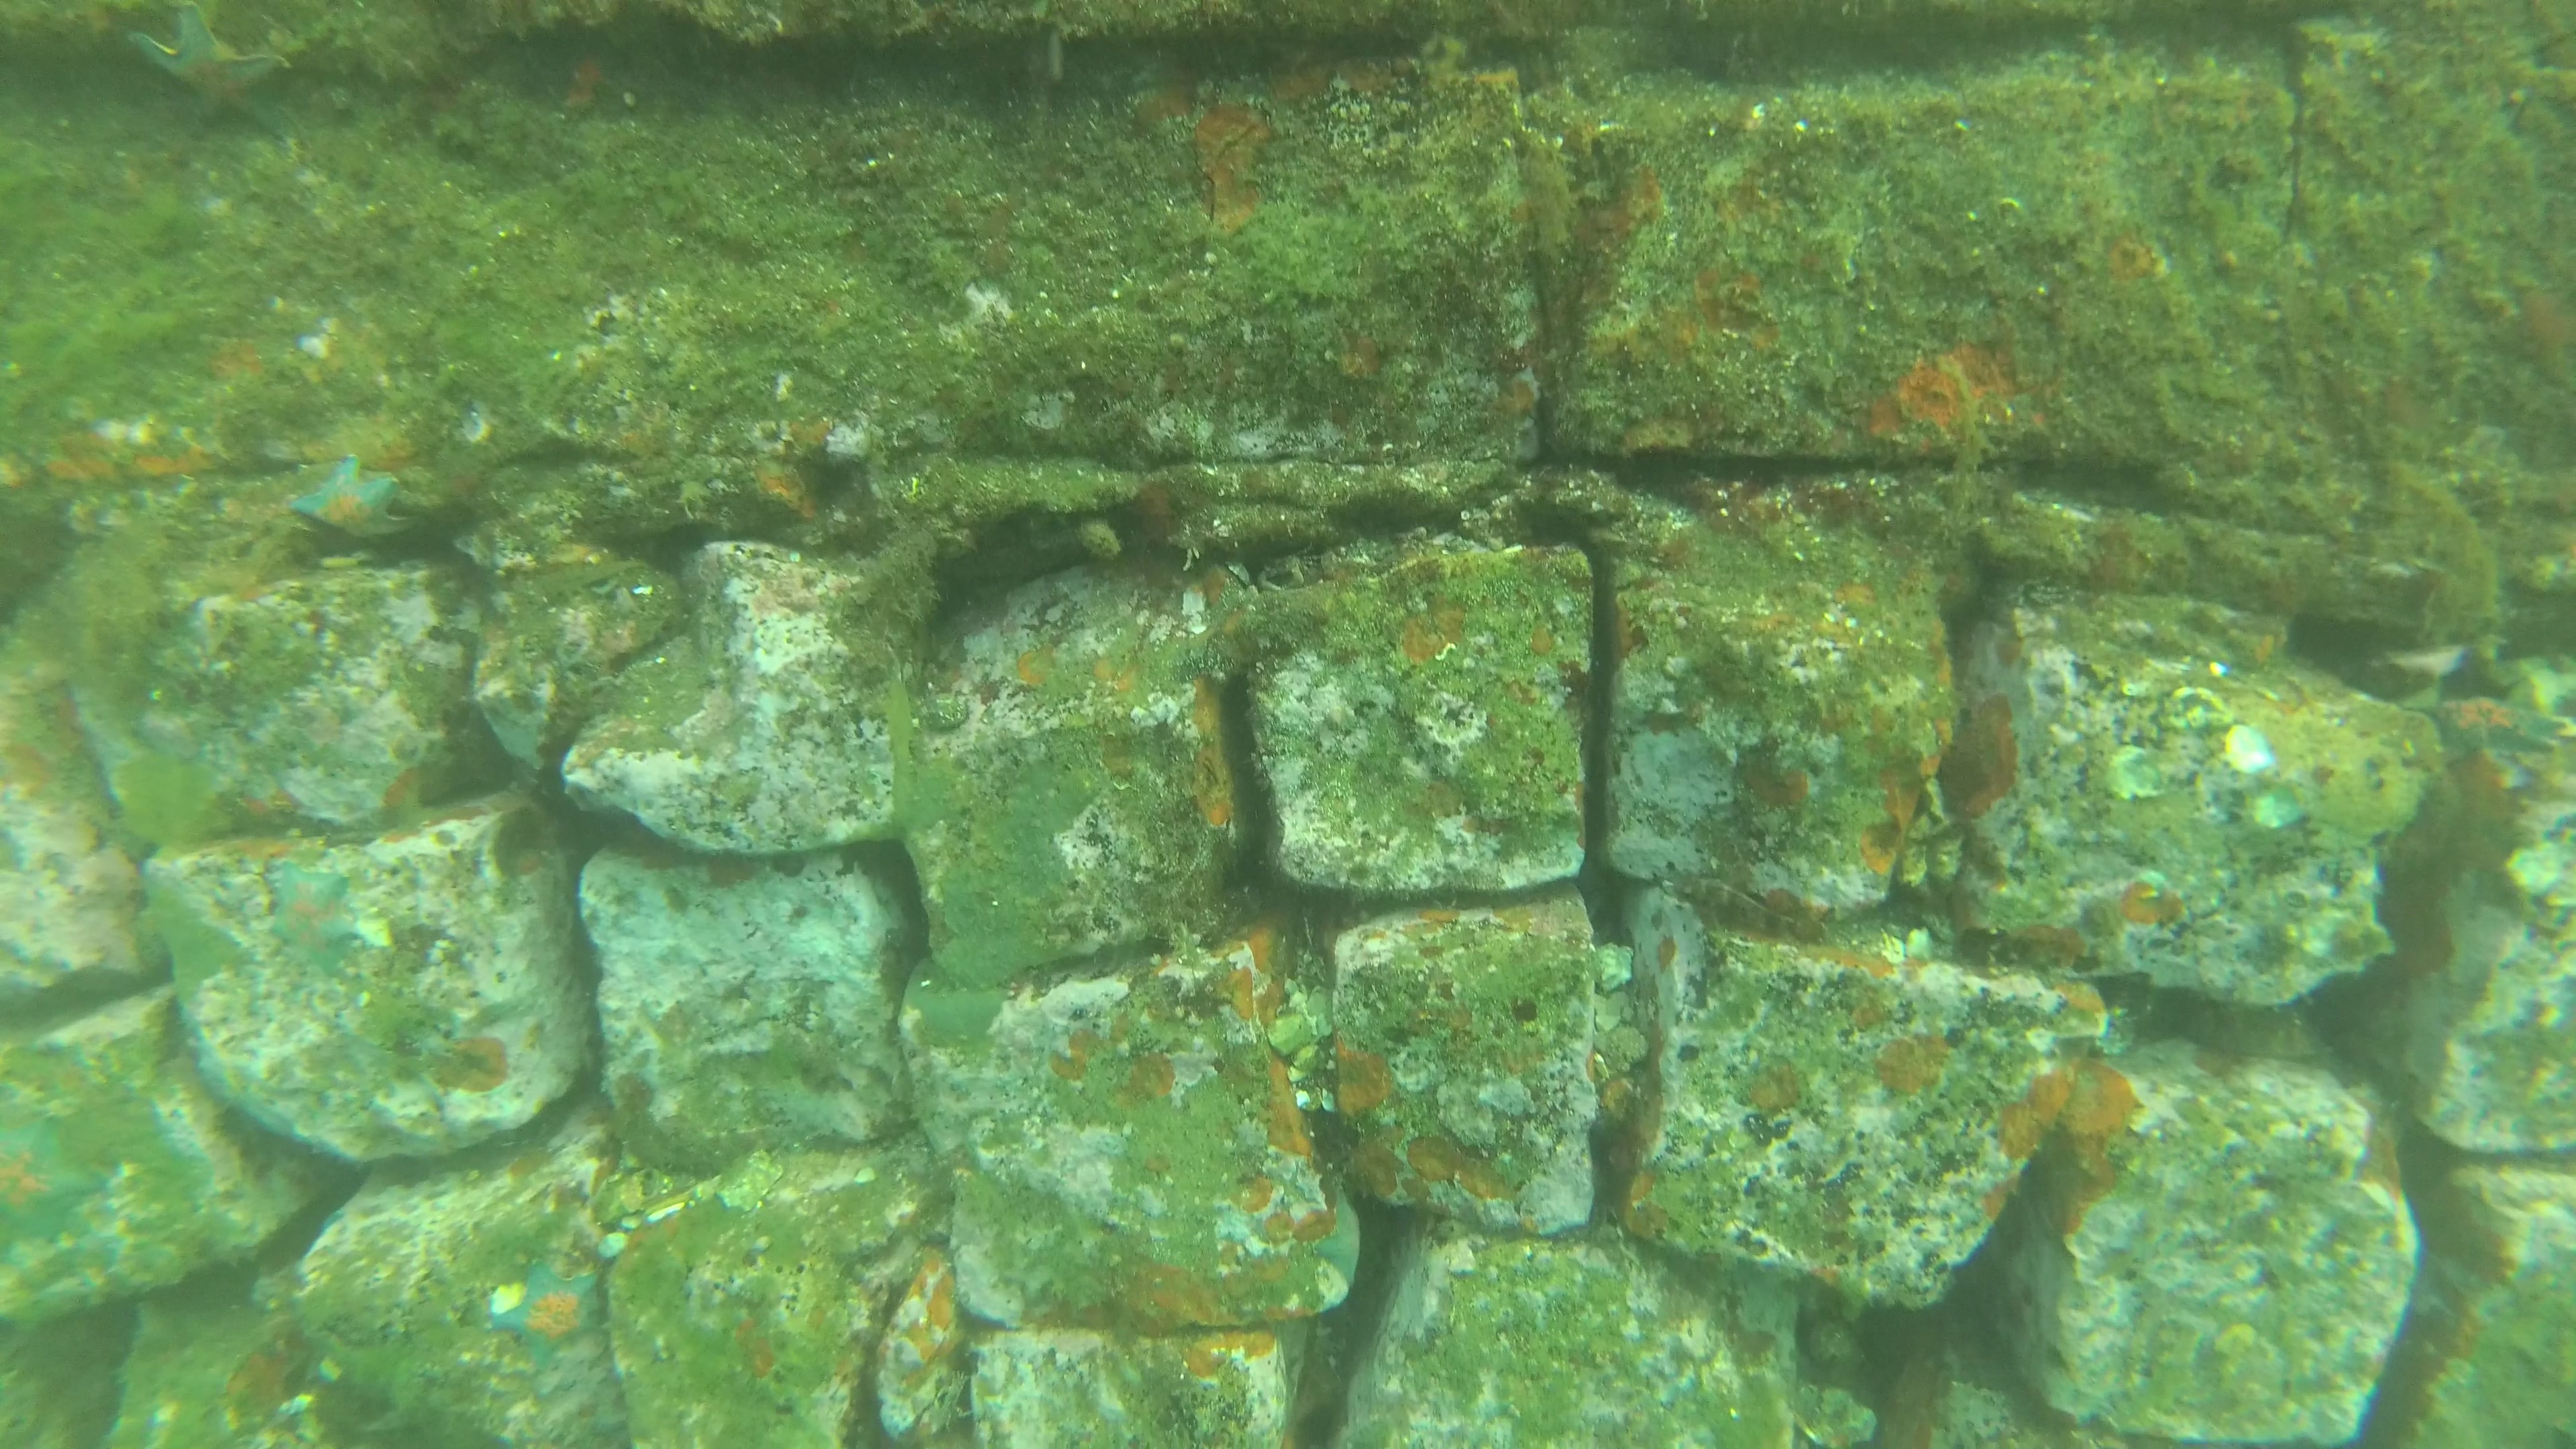starfish: (126, 16, 301, 147), (481, 1254, 605, 1366), (262, 858, 364, 982), (2411, 679, 2571, 759), (283, 462, 414, 547), (2, 1131, 94, 1244)
